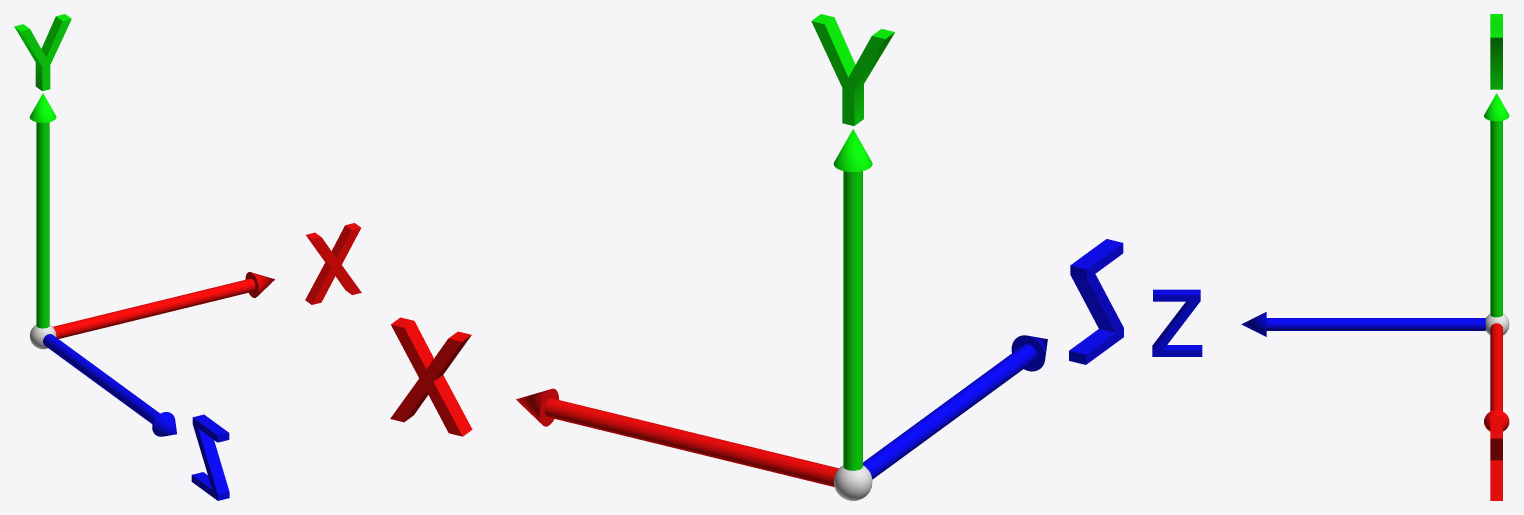
File: coordinates.glb
The picture shows the model from 3 angles, left to right: view 1: azimuth 30°, elevation 25°; view 2: azimuth 150°, elevation 25°; view 3: azimuth 270°, elevation 25°; orthographic projection. The views are drawn at different scales.
Visible parts, largest first — view 1: Cylinder.001, Cylinder.006, Cylinder.002, Text.001, Text.002, Text.006, Icosphere.002; view 2: Cylinder.001, Cylinder.006, Cylinder.002, Text.001, Text.002, Text.006, Icosphere.002; view 3: Cylinder.002, Cylinder.001, Text.002, Cylinder.006, Text.001, Text.006.
Part boxes in pixels (left/top/right/bottom): Cylinder.001: left=29, top=93, right=56, bottom=328; Cylinder.006: left=53, top=272, right=274, bottom=338; Cylinder.002: left=43, top=334, right=176, bottom=436; Text.001: left=305, top=223, right=361, bottom=304; Text.002: left=191, top=414, right=229, bottom=500; Text.006: left=14, top=14, right=71, bottom=91; Icosphere.002: left=29, top=325, right=56, bottom=349; Cylinder.001: left=833, top=129, right=872, bottom=470; Cylinder.006: left=516, top=388, right=838, bottom=486; Cylinder.002: left=863, top=335, right=1047, bottom=479; Text.001: left=390, top=317, right=472, bottom=436; Text.002: left=1069, top=239, right=1123, bottom=364; Text.006: left=811, top=14, right=894, bottom=125; Icosphere.002: left=833, top=465, right=872, bottom=500; Cylinder.002: left=1241, top=312, right=1485, bottom=336; Cylinder.001: left=1484, top=93, right=1509, bottom=317; Text.002: left=1152, top=289, right=1202, bottom=356; Cylinder.006: left=1484, top=323, right=1509, bottom=431; Text.001: left=1490, top=416, right=1502, bottom=500; Text.006: left=1490, top=14, right=1502, bottom=89.
Size of the model in its own units: 2.94 by 2.84 by 2.79.
